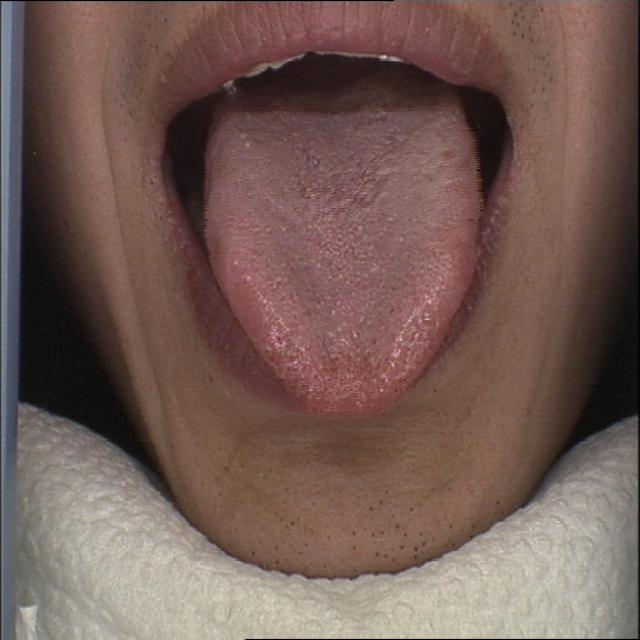tongue: (190, 97, 494, 426)
